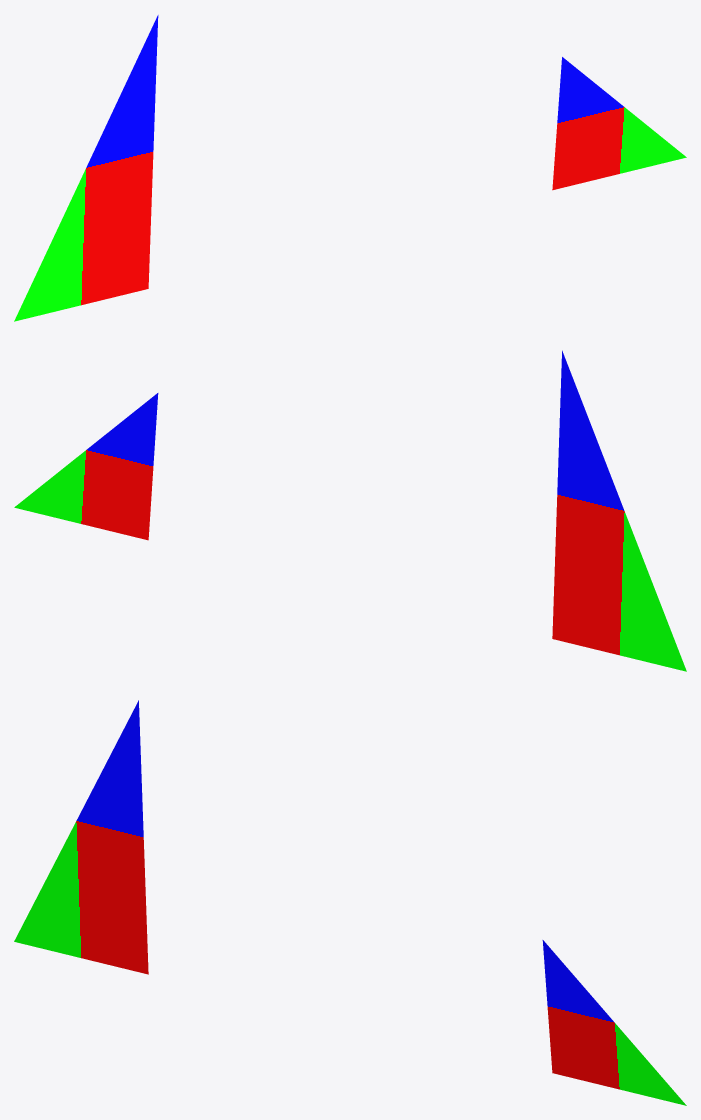
File: static_instances.glb
3 renders of one model, top to bottom at view 1: azimuth 30°, elevation 25°; view 2: azimuth 150°, elevation 25°; view 3: azimuth 330°, elevation 25°, orthographic.
Visible parts, largest first — view 1: Mirrored, Instance; view 2: Mirrored, Instance; view 3: Mirrored, Instance.
Part boxes in pixels (x1=…): Mirrored: x1=14, y1=15, x2=158, y2=321; Instance: x1=552, y1=57, x2=686, y2=190; Mirrored: x1=552, y1=350, x2=686, y2=671; Instance: x1=14, y1=393, x2=158, y2=540; Mirrored: x1=14, y1=700, x2=148, y2=974; Instance: x1=542, y1=940, x2=686, y2=1105.
Size of the model in its own units: 5 by 2 by 0.125.
Materials: 1 (1 with a texture image).
